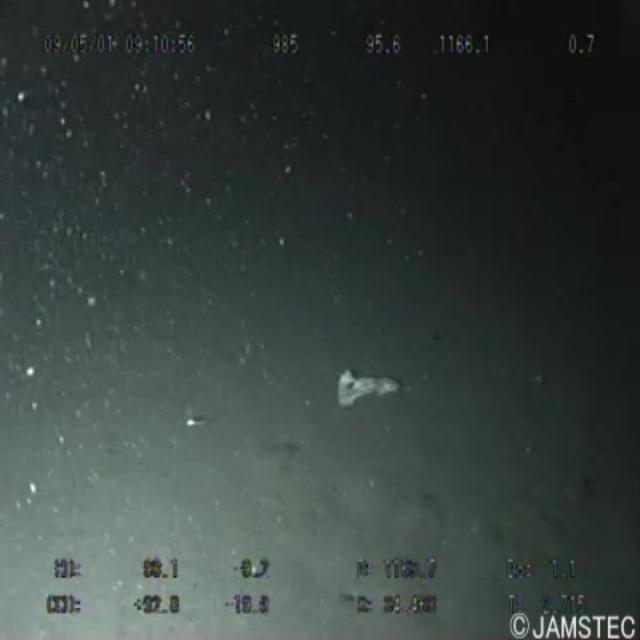Plastic: (330, 346, 412, 424)
